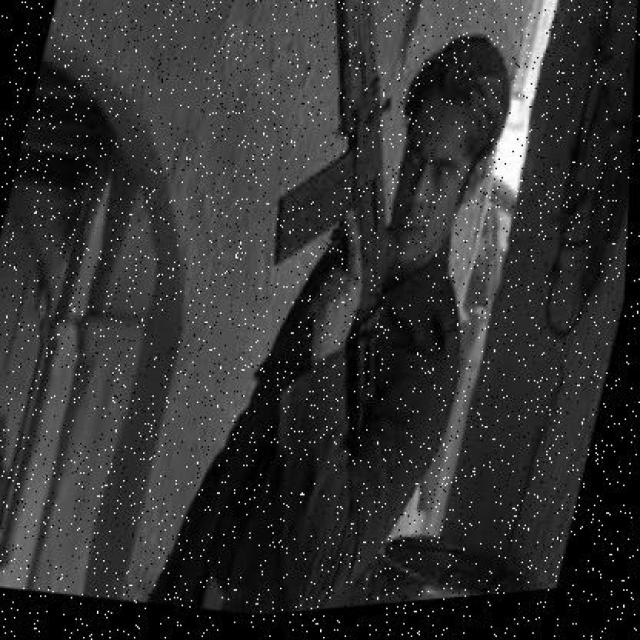weapon: (272, 0, 392, 437)
